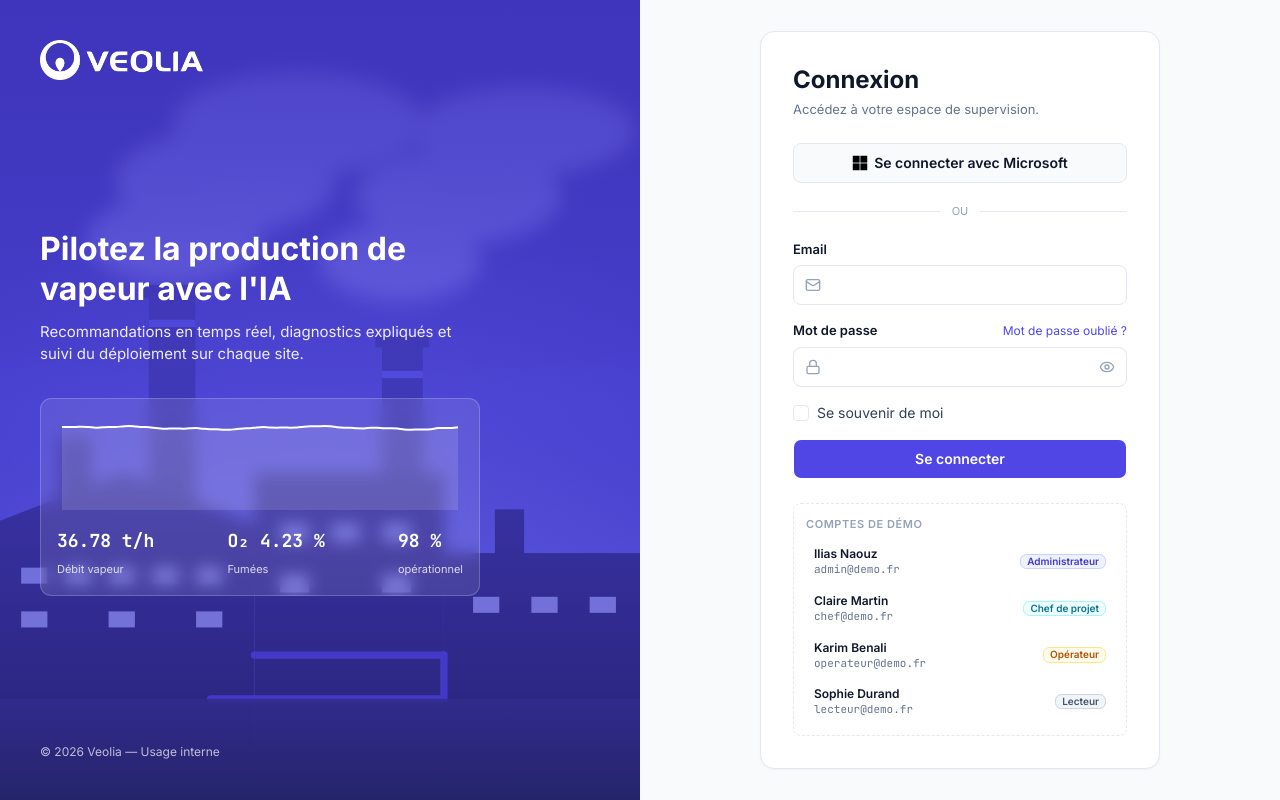
Scenario: authentification › affiche une erreur pour de mauvais identifiants
This screenshot has width=1280, height=800.
Type "lecteur@demo.fr" into the field labelled "Email" at (960, 285), box x1=793 y1=265 x2=1127 y2=305
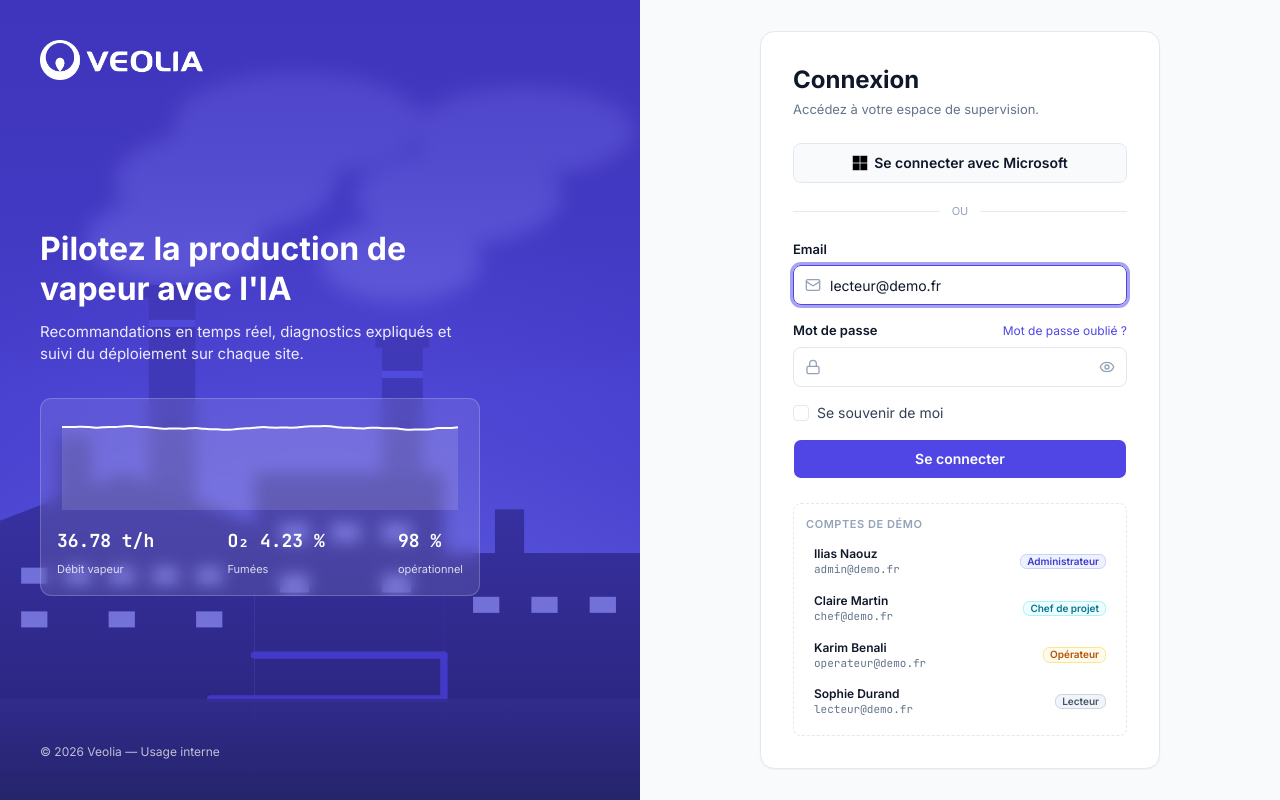
Type "mauvais" into the password field labelled "Mot de passe" at (960, 367), box x1=793 y1=347 x2=1127 y2=387
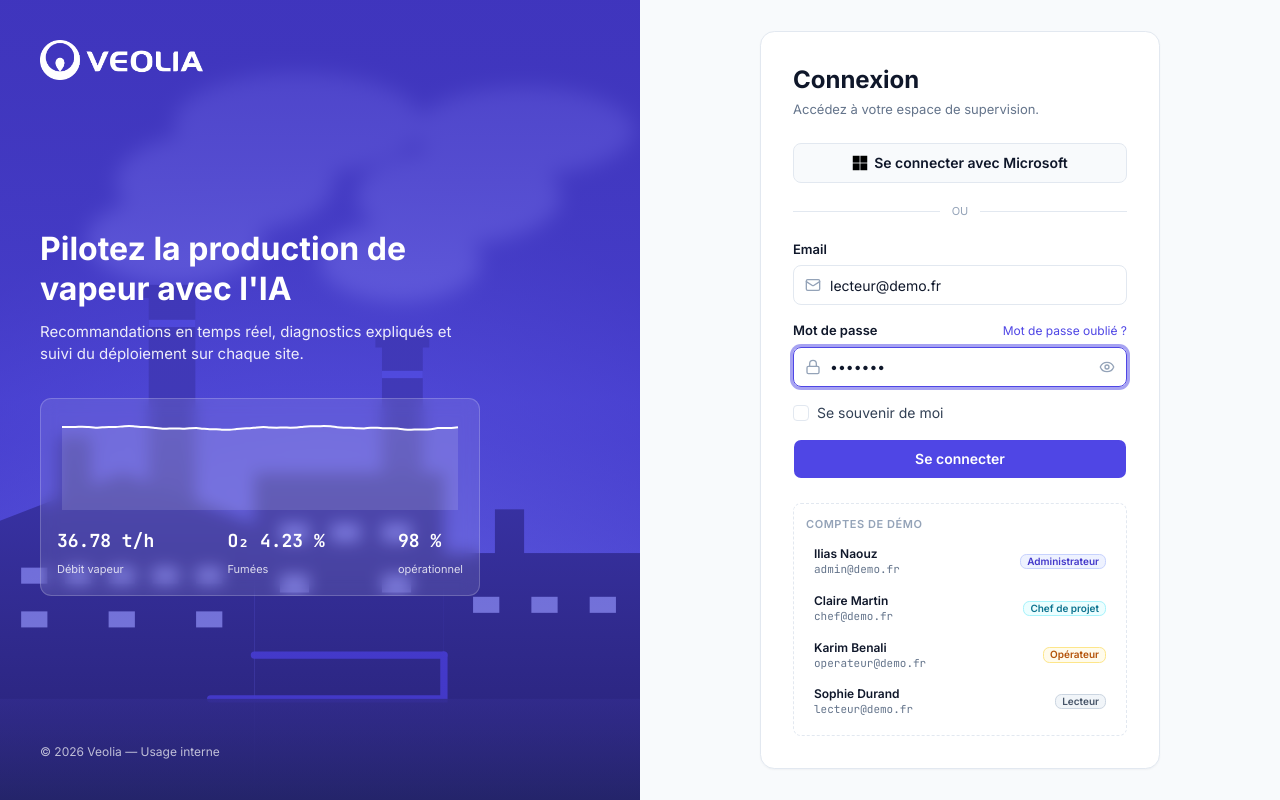
Click the button "Se connecter" at (960, 459), box x1=793 y1=439 x2=1127 y2=479
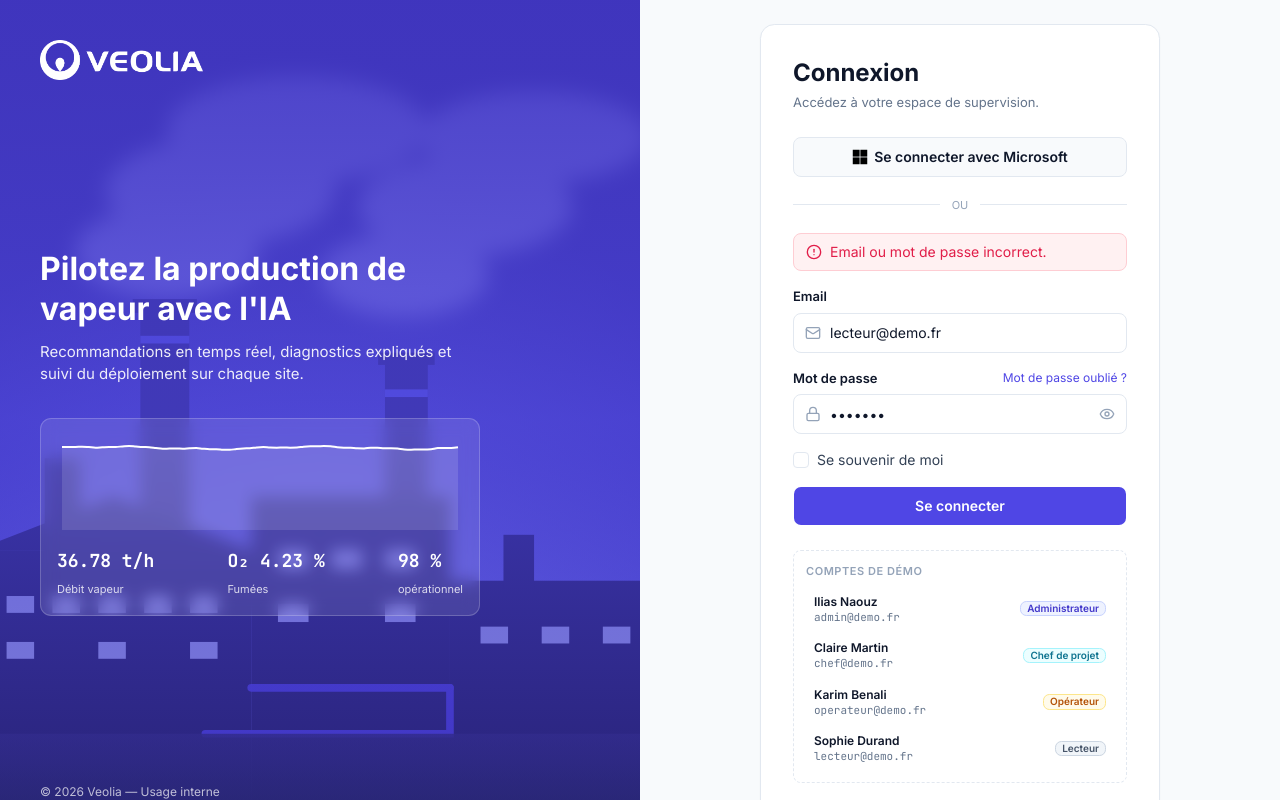
Check: the message reads "Email ou mot de passe incorrect.", box x1=830 y1=243 x2=1046 y2=260
